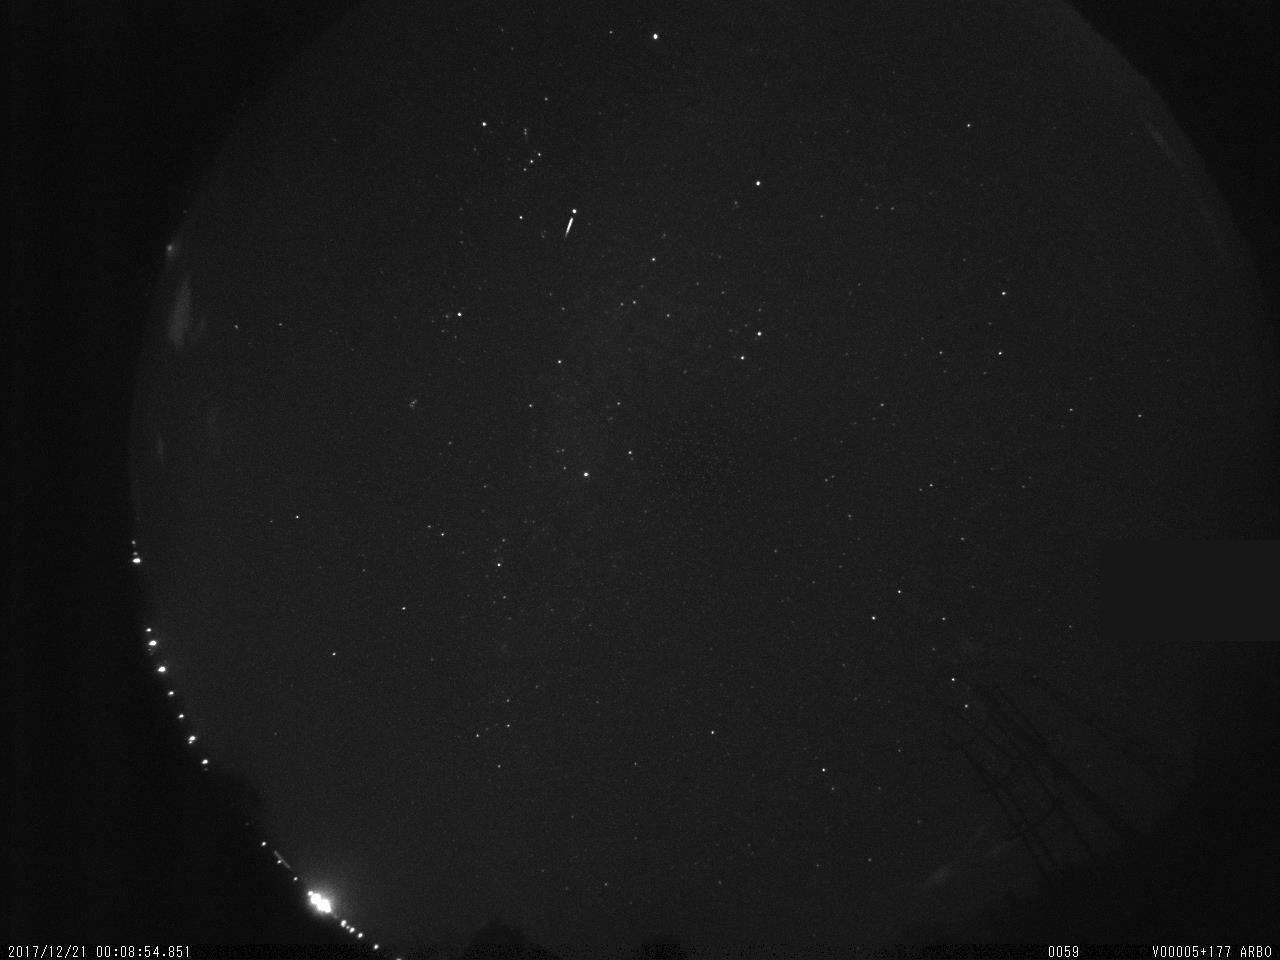Meteor: (562, 207, 575, 237)
